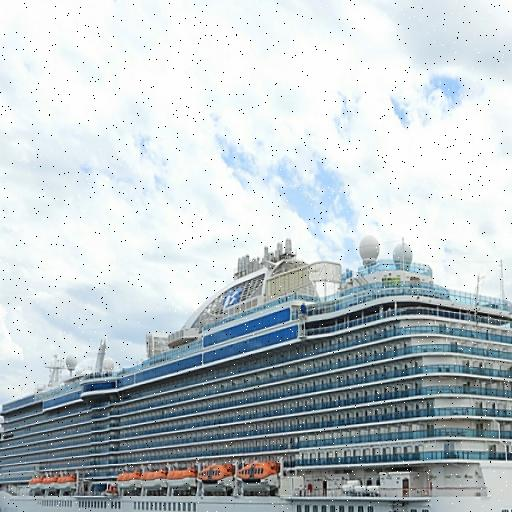cruises: (1, 232, 512, 512)
